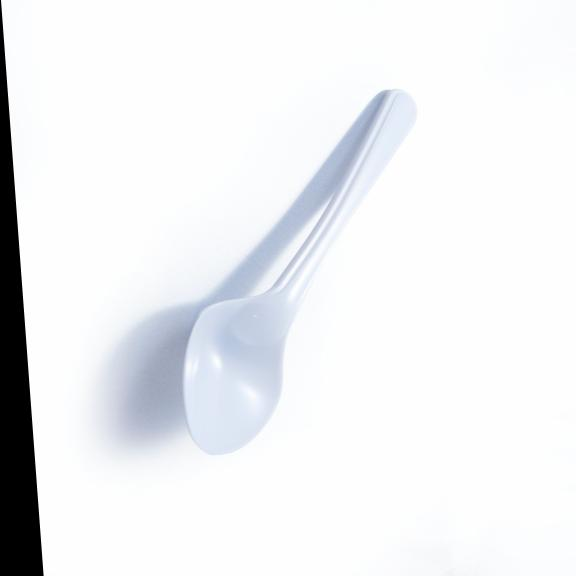Plastik: (184, 90, 415, 449)
